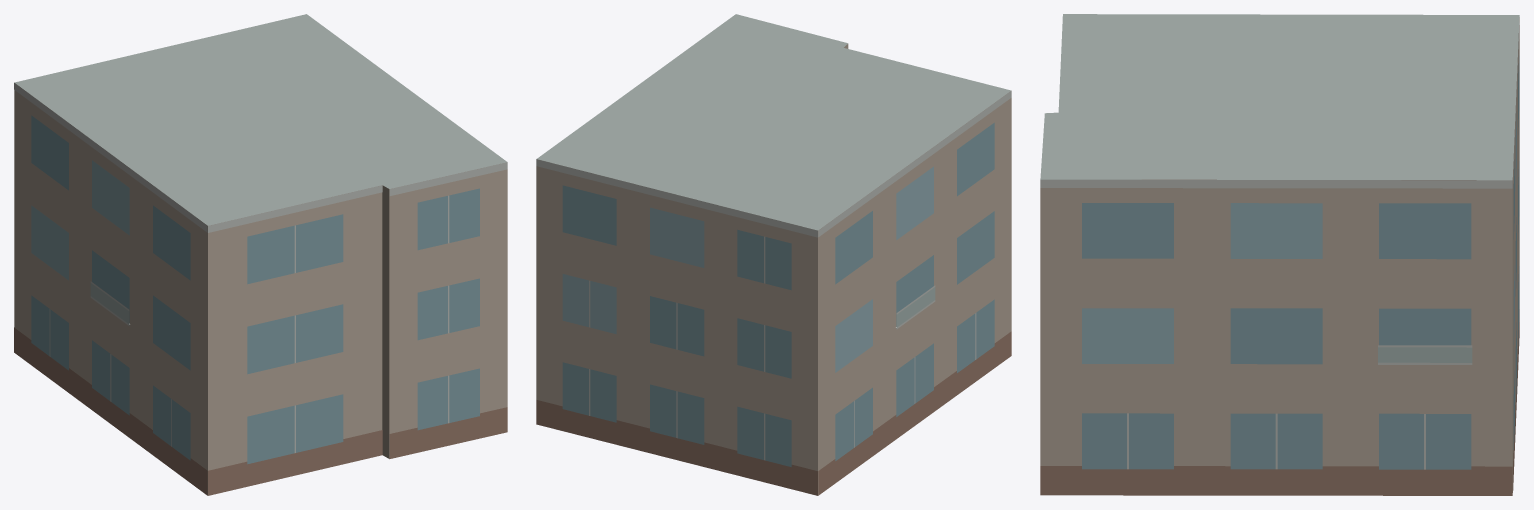
File: survey-upis-32926005.glb
3 renders of one model, left to right at view 1: azimuth 30°, elevation 25°; view 2: azimuth 150°, elevation 25°; view 3: azimuth 270°, elevation 25°, orthographic. The views are drawn at different scales.
Visible parts, largest first — view 1: survey-upis-32926005.tmp; view 2: survey-upis-32926005.tmp; view 3: survey-upis-32926005.tmp.
Boxes of the visible parts, bbox=[...] form: survey-upis-32926005.tmp: bbox=[14, 14, 507, 495]; survey-upis-32926005.tmp: bbox=[536, 14, 1011, 495]; survey-upis-32926005.tmp: bbox=[1040, 14, 1519, 495].
Size of the model in its own units: 10.38 by 9.15 by 12.6.
